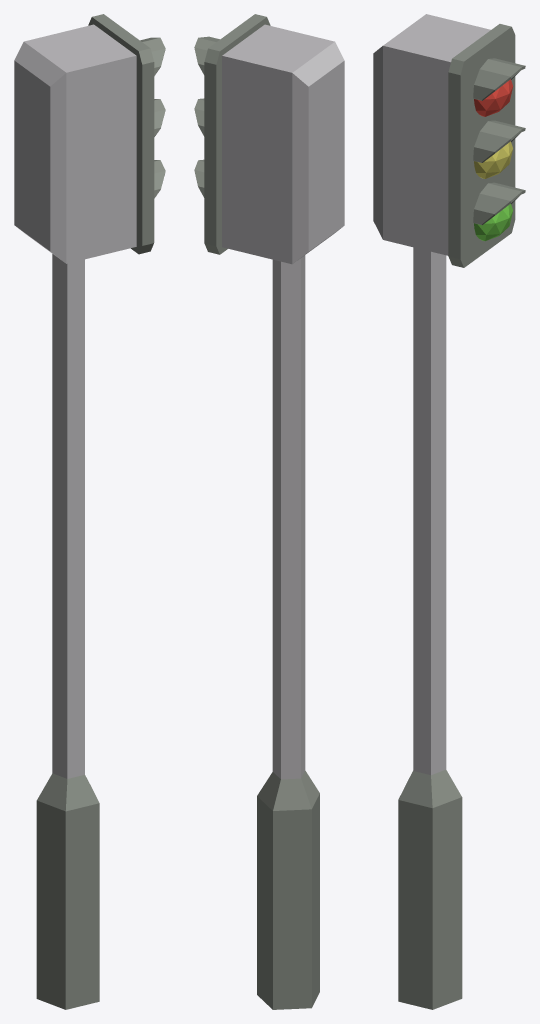
The model's file is trafficlight.glb.
3 renders of one model, left to right at view 1: azimuth 30°, elevation 25°; view 2: azimuth 150°, elevation 25°; view 3: azimuth 330°, elevation 25°, orthographic.
Parts seen in each view (by area): view 1: TrafficLight; view 2: TrafficLight; view 3: TrafficLight.
Part boxes in pixels (bbox=[...]): TrafficLight: bbox=[14, 14, 165, 1009]; TrafficLight: bbox=[194, 14, 344, 1009]; TrafficLight: bbox=[373, 14, 525, 1009].
Size of the model in its own units: 0.123 by 0.8709 by 0.0896.
Materials: 1 (1 with a texture image).
